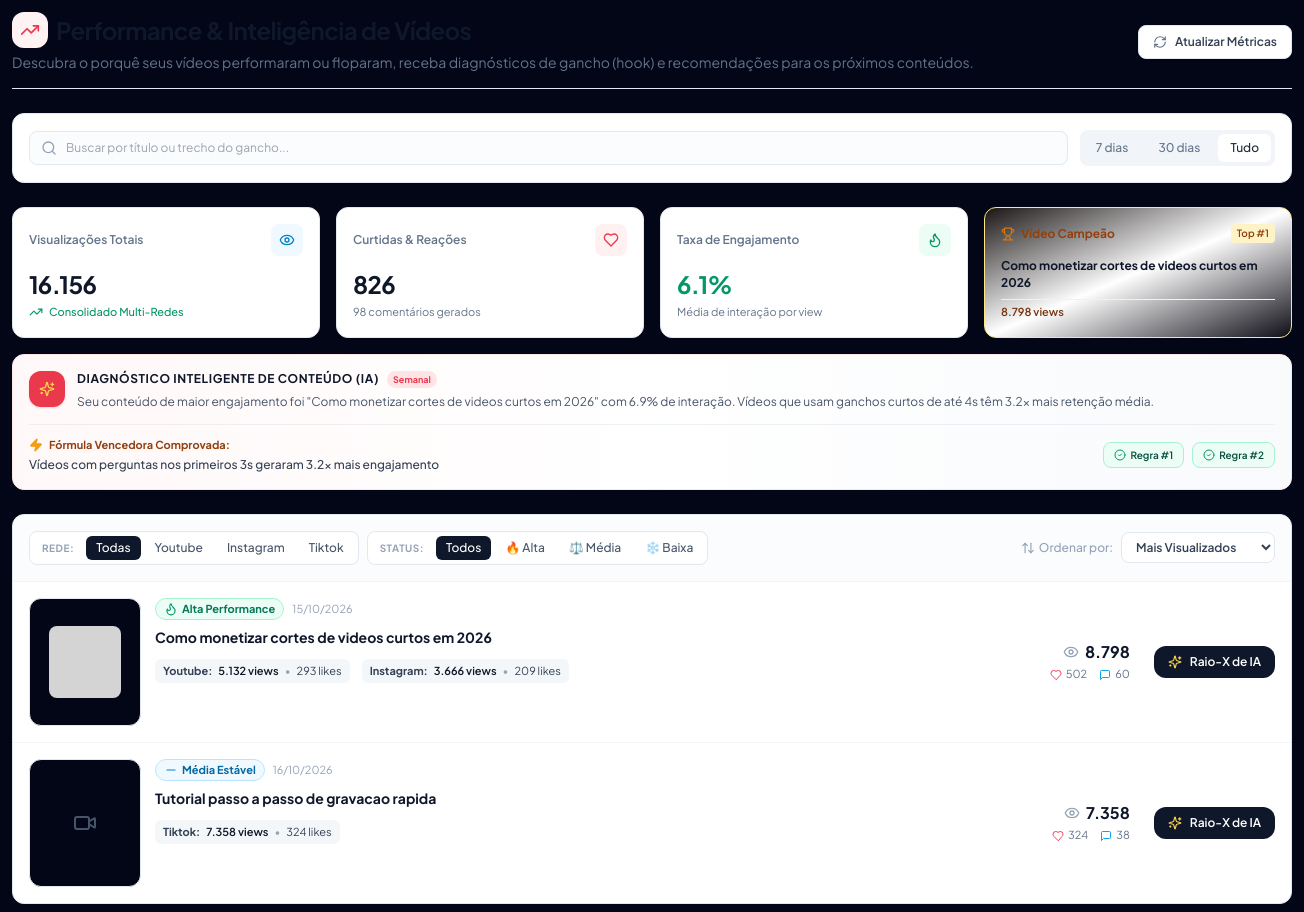
Test: AnalyticsDashboard Component › displays the list of analyzed videos and allows searching by title
Check: the element with test id "video-perf-item-1" is shown, box left=13, top=582, right=1291, bottom=742
Check: the element with test id "video-perf-item-2" is shown, box left=13, top=742, right=1291, bottom=902
Filtra pelo campo de busca
Type "monetizar" into the field with test id "input-search-analytics".
click(548, 148); type("monetizar")  # box left=29, top=131, right=1068, bottom=165
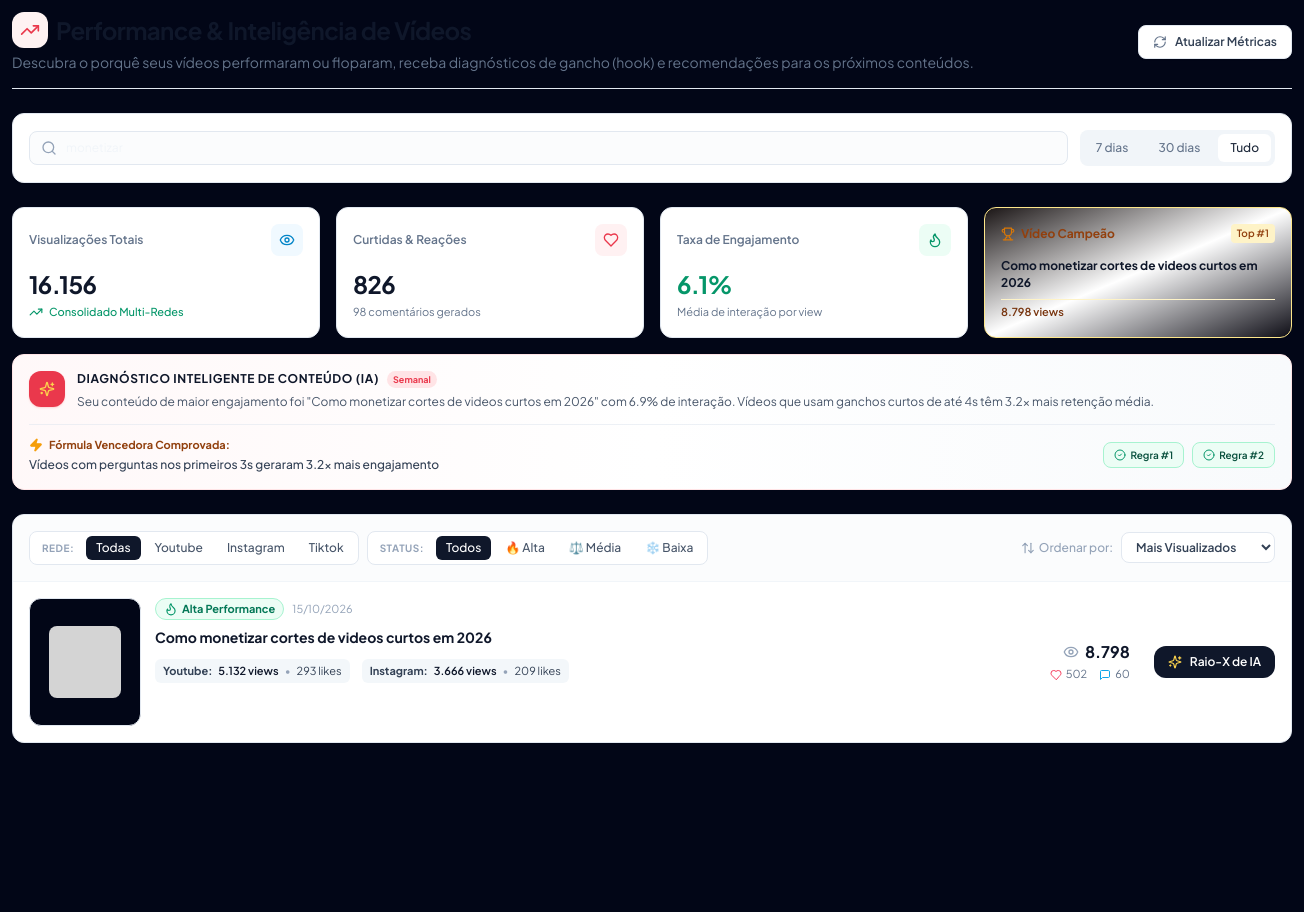
Check: the element with test id "video-perf-item-1" is shown, box left=13, top=582, right=1291, bottom=742
Check: the element with test id "video-perf-item-2" is gone
